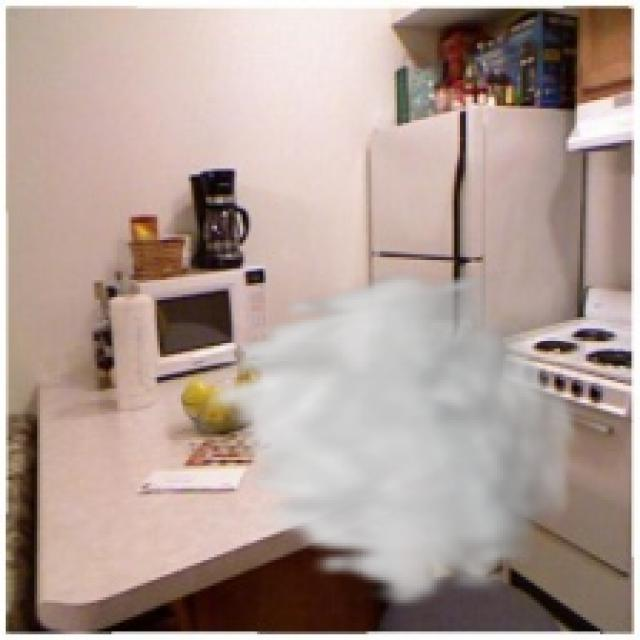smoke: (188, 268, 586, 612)
